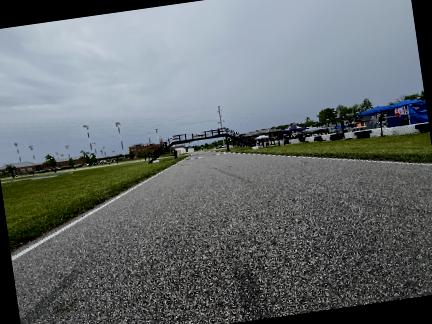Grass: (1, 156, 185, 249), (231, 133, 431, 162)
Lane: (12, 152, 431, 323)
